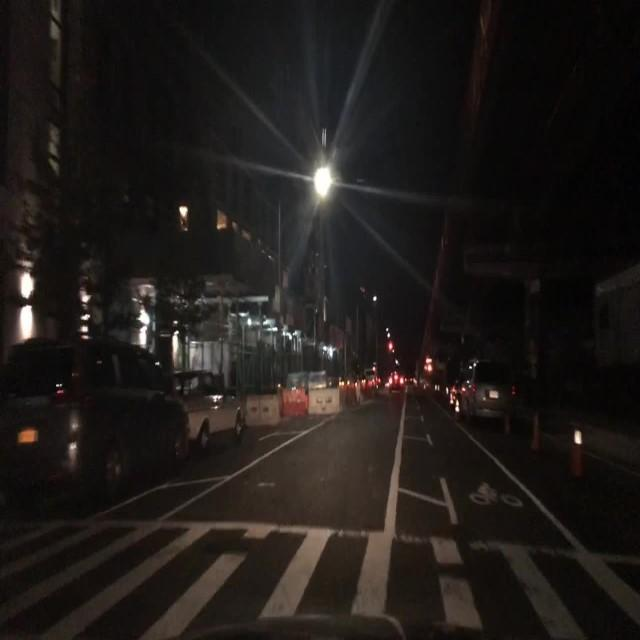normal: (0, 307, 254, 508)
